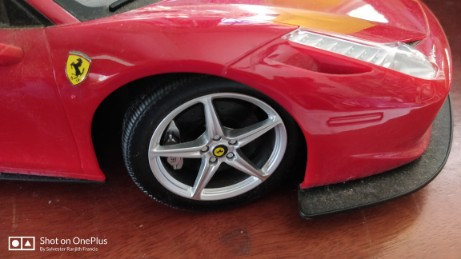unaligned_wheel: (112, 70, 308, 217)
